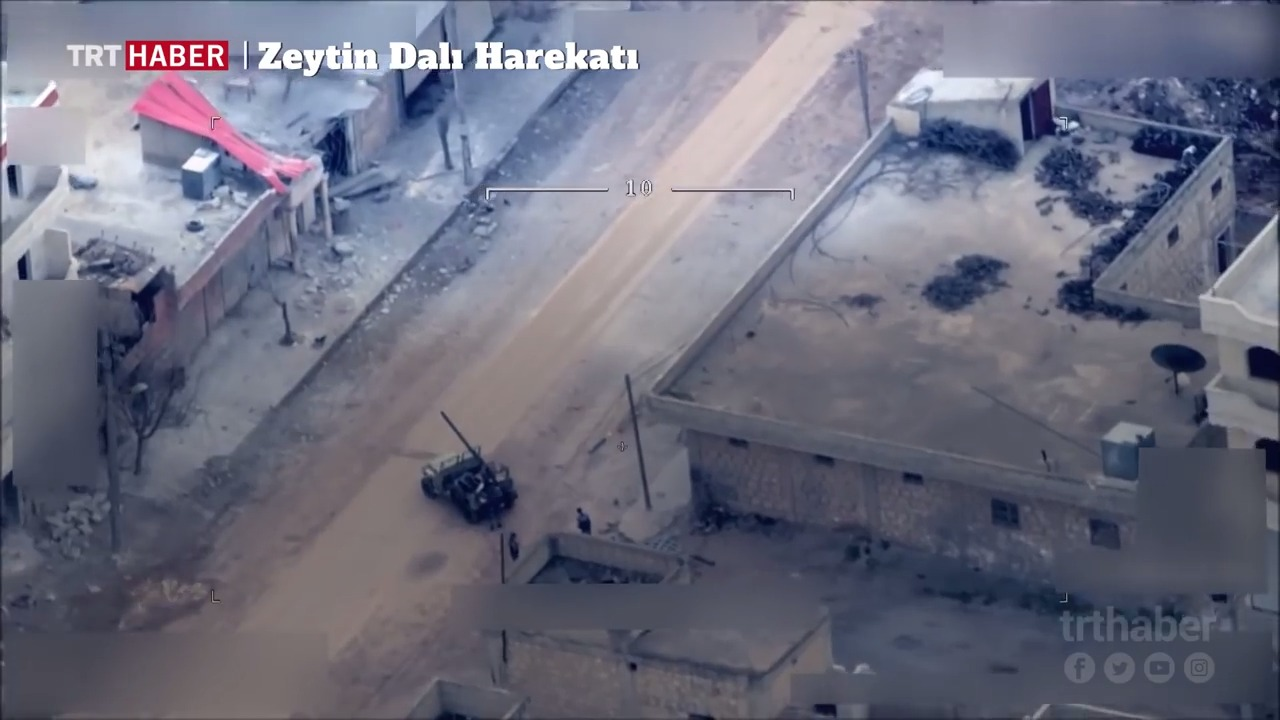arac: (413, 406, 518, 520)
insan: (485, 475, 504, 537), (572, 499, 597, 535), (501, 530, 526, 564)
